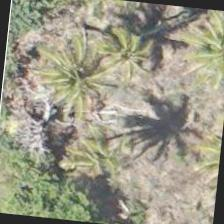Kelapa_Sawit: (73, 10, 172, 110), (7, 48, 106, 148), (49, 114, 148, 212), (173, 6, 223, 94)
